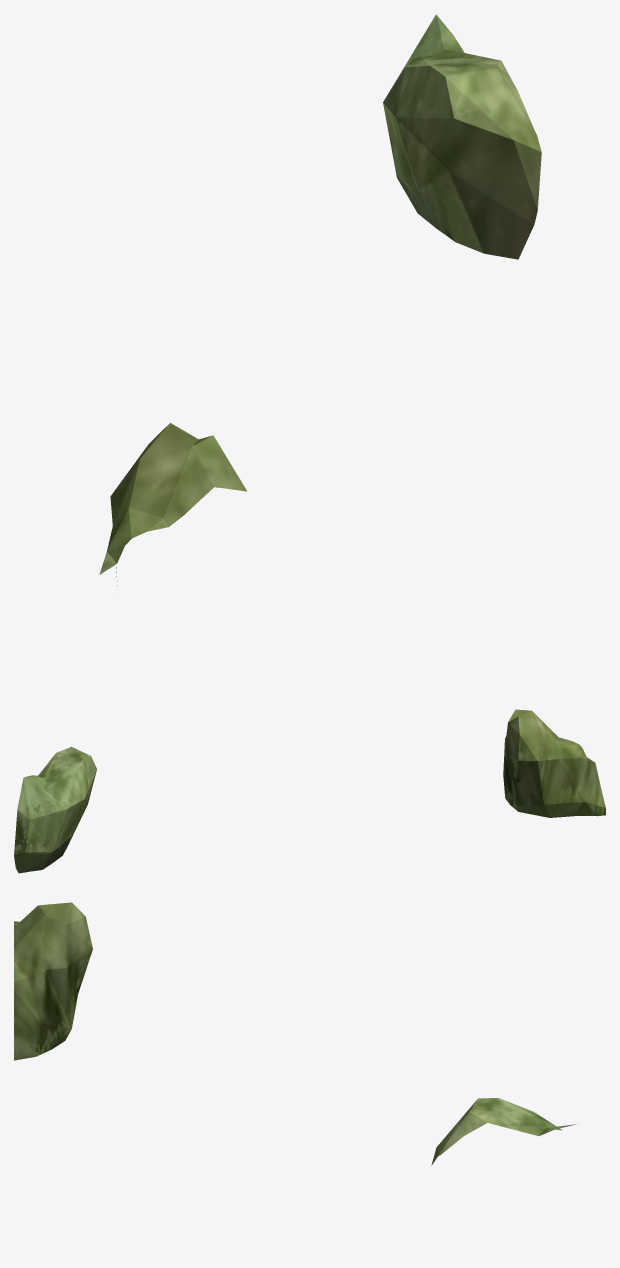
3 views of the same model, one above another, from view 1: azimuth 30°, elevation 25°; view 2: azimuth 150°, elevation 25°; view 3: azimuth 270°, elevation 25° (orthographic). The views are drawn at different scales.
Size of the model in its own units: 2.5 by 0.612 by 2.4.
1 material, 1 textured.
